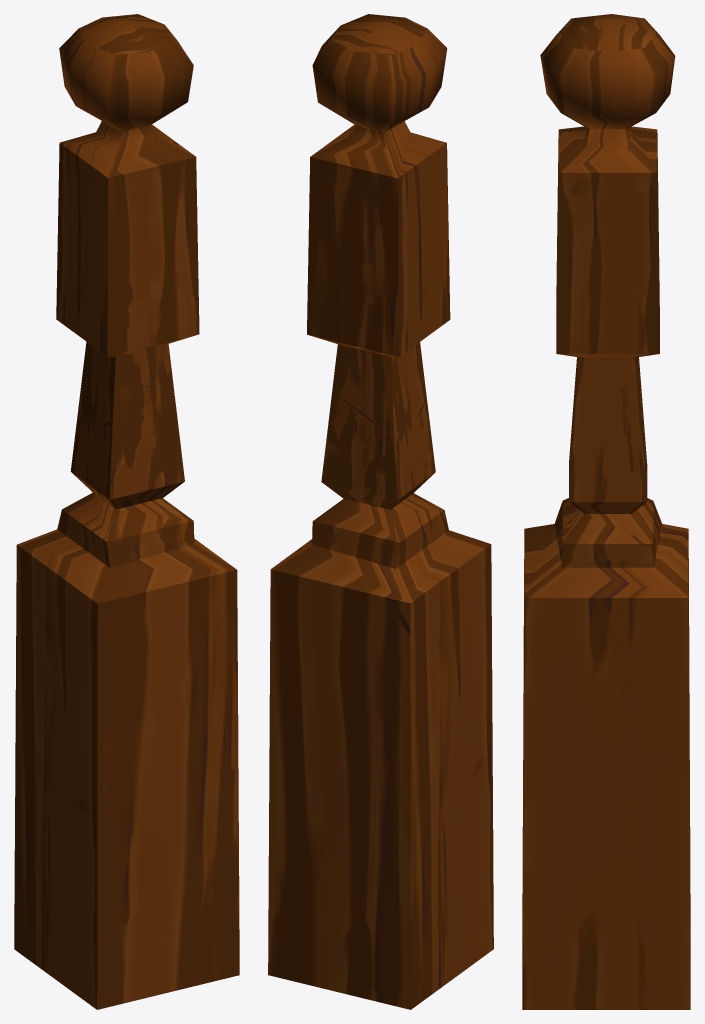
Rendered from MOD_Railing_02_column.fbx.
The picture shows the model from 3 angles, left to right: view 1: azimuth 30°, elevation 25°; view 2: azimuth 150°, elevation 25°; view 3: azimuth 270°, elevation 25°; orthographic projection.
Visible parts, largest first — view 1: MOD_Railing_02_column; view 2: MOD_Railing_02_column; view 3: MOD_Railing_02_column.
Part boxes in pixels (bbox=[...]): MOD_Railing_02_column: bbox=[14, 14, 239, 1009]; MOD_Railing_02_column: bbox=[268, 14, 493, 1009]; MOD_Railing_02_column: bbox=[522, 14, 690, 1009].
Bounding box in the file's own units: 30.18 × 190 × 30.4.
